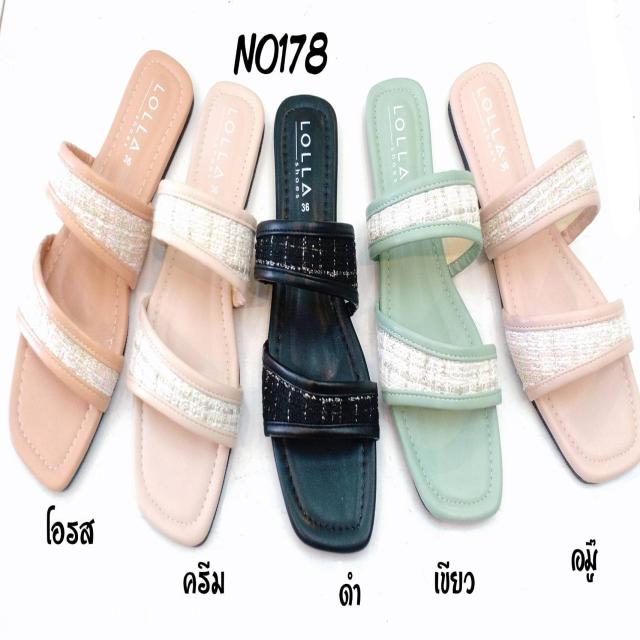black: (264, 98, 378, 542)
cream: (134, 80, 264, 542)
green: (367, 83, 505, 527)
nood: (447, 62, 640, 480)
orot: (6, 58, 192, 500)
